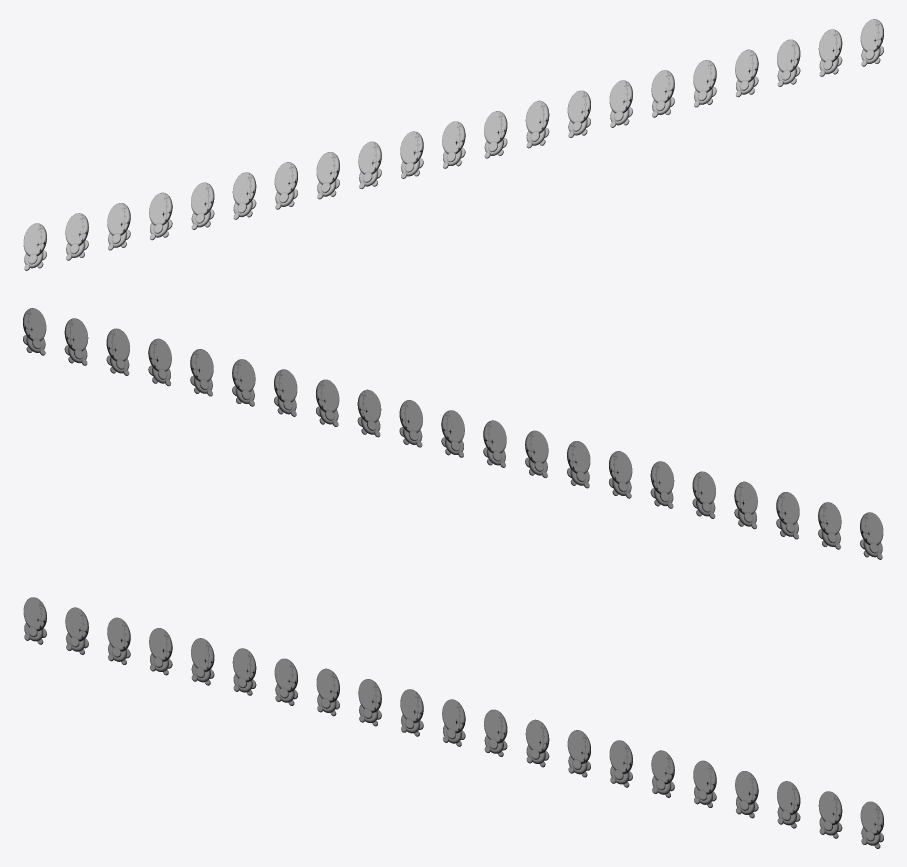
Rendered from eggy_ground.obj.
3 renders of one model, top to bottom at view 1: azimuth 30°, elevation 25°; view 2: azimuth 150°, elevation 25°; view 3: azimuth 330°, elevation 25°, orthographic.
Parts seen in each view (by area): view 1: ground_Plane.001; view 2: ground_Plane.001; view 3: ground_Plane.001.
Part boxes in pixels (x1=…): ground_Plane.001: x1=23, y1=19, x2=883, y2=270; ground_Plane.001: x1=23, y1=308, x2=883, y2=559; ground_Plane.001: x1=23, y1=597, x2=883, y2=848.
Bounding box in the file's own units: 2 × 0.1 × 0.
